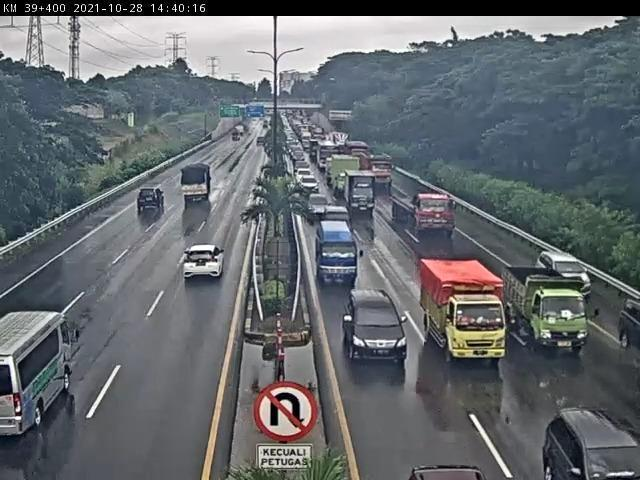bus: (1, 310, 79, 437), (315, 223, 357, 284)
car: (542, 406, 640, 480), (344, 292, 412, 363), (537, 251, 594, 303), (183, 247, 225, 279), (136, 190, 166, 217), (324, 205, 350, 230), (305, 194, 331, 218)
truck: (419, 259, 509, 363), (505, 268, 591, 359), (392, 188, 456, 231), (347, 170, 376, 218), (181, 163, 214, 201)
